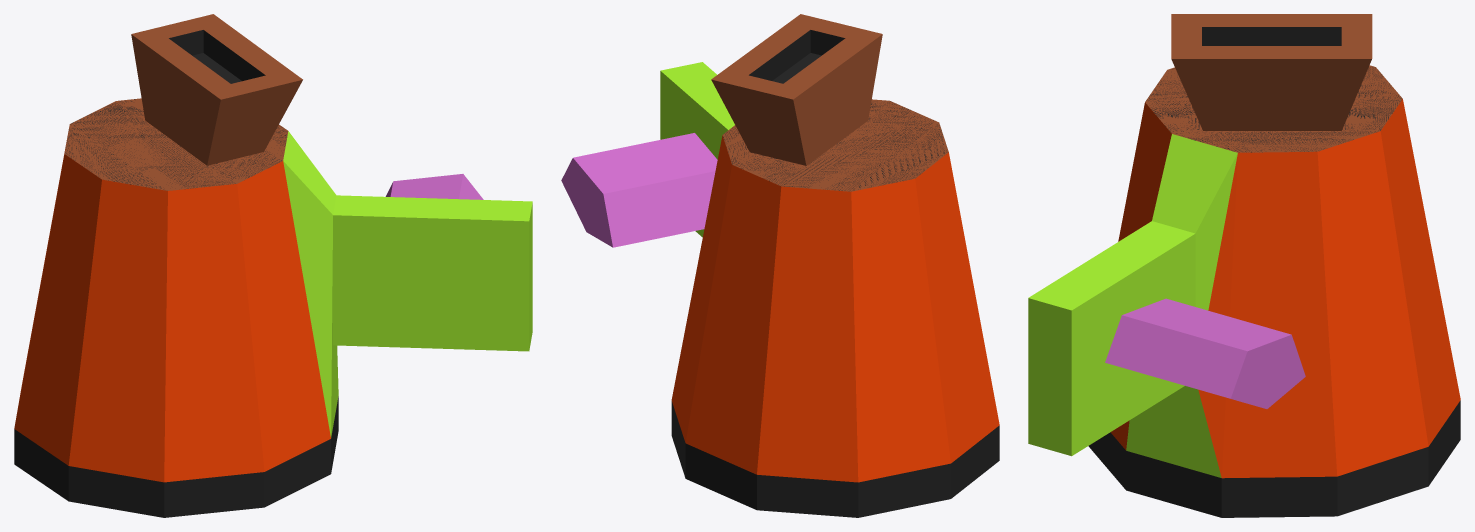
The model's file is Abstrait.dae.
3 views of the same model, side by side, from view 1: azimuth 30°, elevation 25°; view 2: azimuth 150°, elevation 25°; view 3: azimuth 270°, elevation 25° (orthographic). The views are drawn at different scales.
Visible parts, largest first — view 1: SketchUp (×7); view 2: SketchUp (×7); view 3: SketchUp (×8).
Part boxes in pixels (x1,y1,x2,y2): SketchUp (×7): (14,14,532,517); SketchUp (×7): (561,14,999,517); SketchUp (×8): (1028,14,1460,517).
Bounding box in the file's own units: 1981 × 1530 × 1668.
